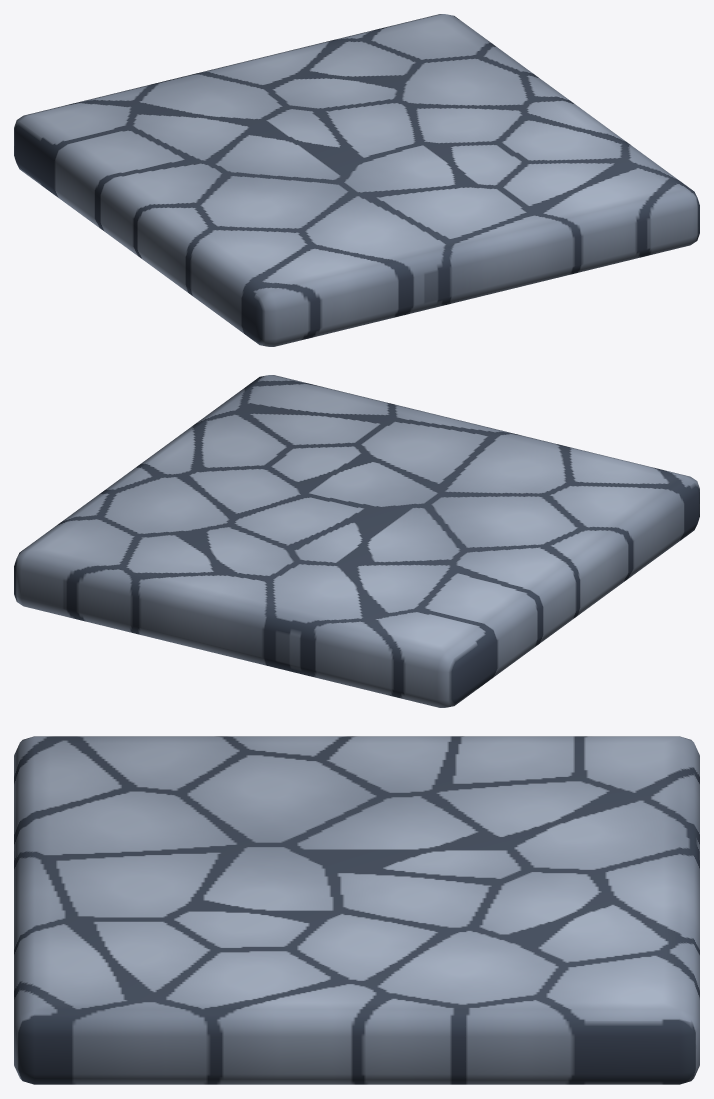
Rendered from floor.glb.
The picture shows the model from 3 angles, top to bottom: view 1: azimuth 30°, elevation 25°; view 2: azimuth 150°, elevation 25°; view 3: azimuth 270°, elevation 25°; orthographic projection. The views are drawn at different scales.
Parts seen in each view (by area): view 1: floor; view 2: floor; view 3: floor.
Boxes of the visible parts, x1=… form: floor: x1=14, y1=14, x2=699, y2=346; floor: x1=14, y1=375, x2=699, y2=707; floor: x1=14, y1=736, x2=699, y2=1084.
Bounding box in the file's own units: 1 × 0.12 × 1.
1 material, 1 textured.
